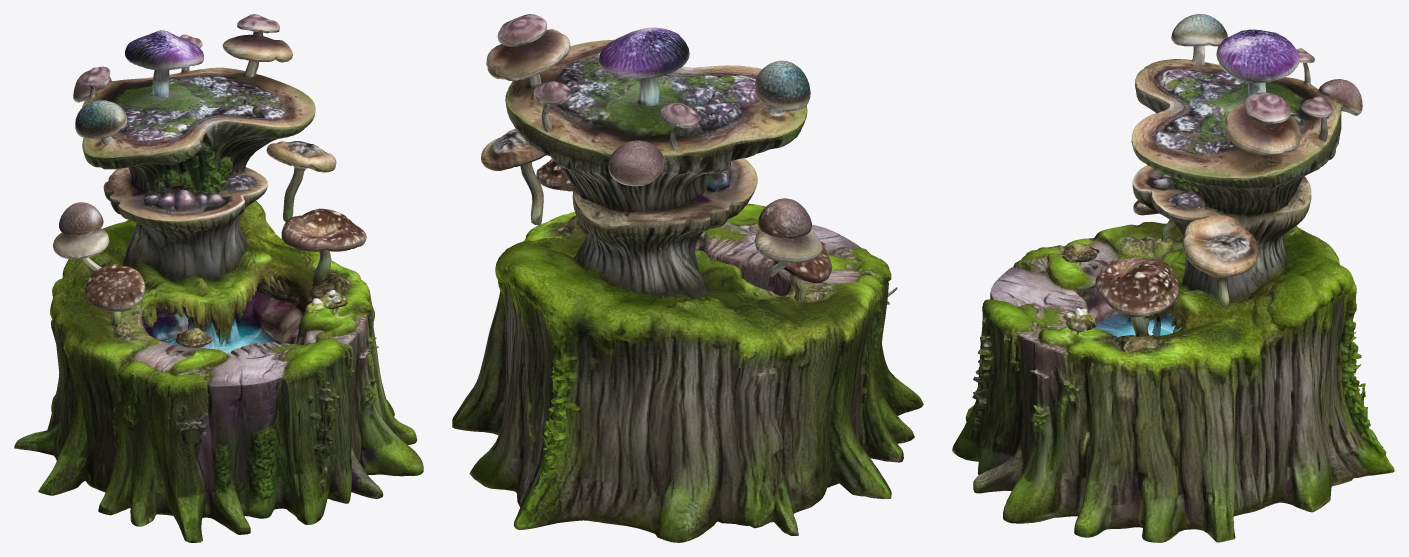
Rendered from Mushroom_Citadel_on_a.glb.
3 views of the same model, side by side, from view 1: azimuth 30°, elevation 25°; view 2: azimuth 150°, elevation 25°; view 3: azimuth 270°, elevation 25° (orthographic). The views are drawn at different scales.
Visible parts, largest first — view 1: Mushroom_Citadel_on_a; view 2: Mushroom_Citadel_on_a; view 3: Mushroom_Citadel_on_a.
Boxes of the visible parts, bbox=[...] form: Mushroom_Citadel_on_a: bbox=[14, 14, 423, 542]; Mushroom_Citadel_on_a: bbox=[452, 14, 923, 542]; Mushroom_Citadel_on_a: bbox=[952, 14, 1394, 542].
Bounding box in the file's own units: 1.8 × 1.91 × 1.85.
Materials: 1 (1 with a texture image).
